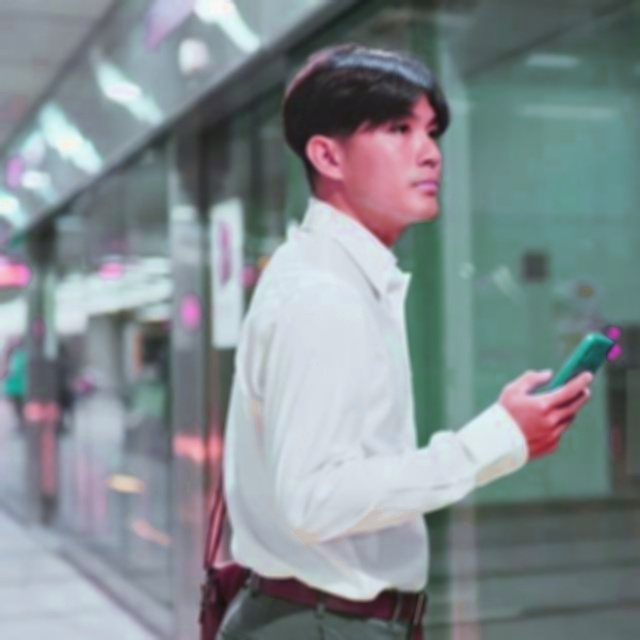Sin_Casco_Mascarrilla: (283, 44, 449, 223)
Sin_Chaleco: (222, 224, 434, 600)
